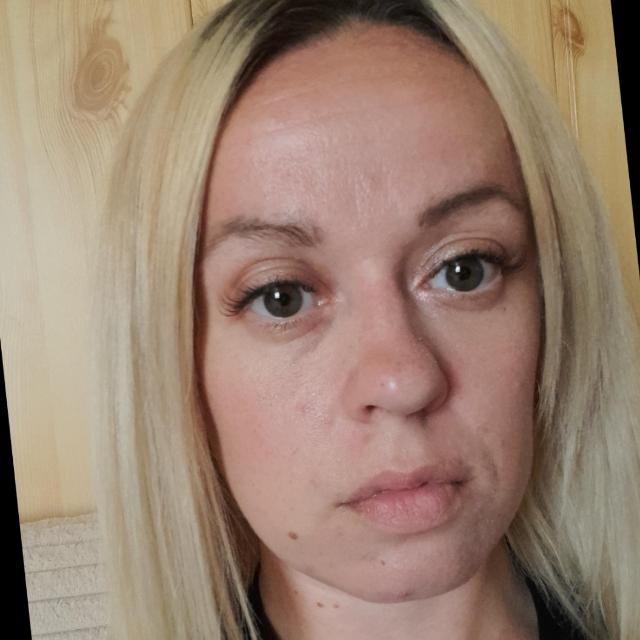Natural: (105, 90, 555, 591)
